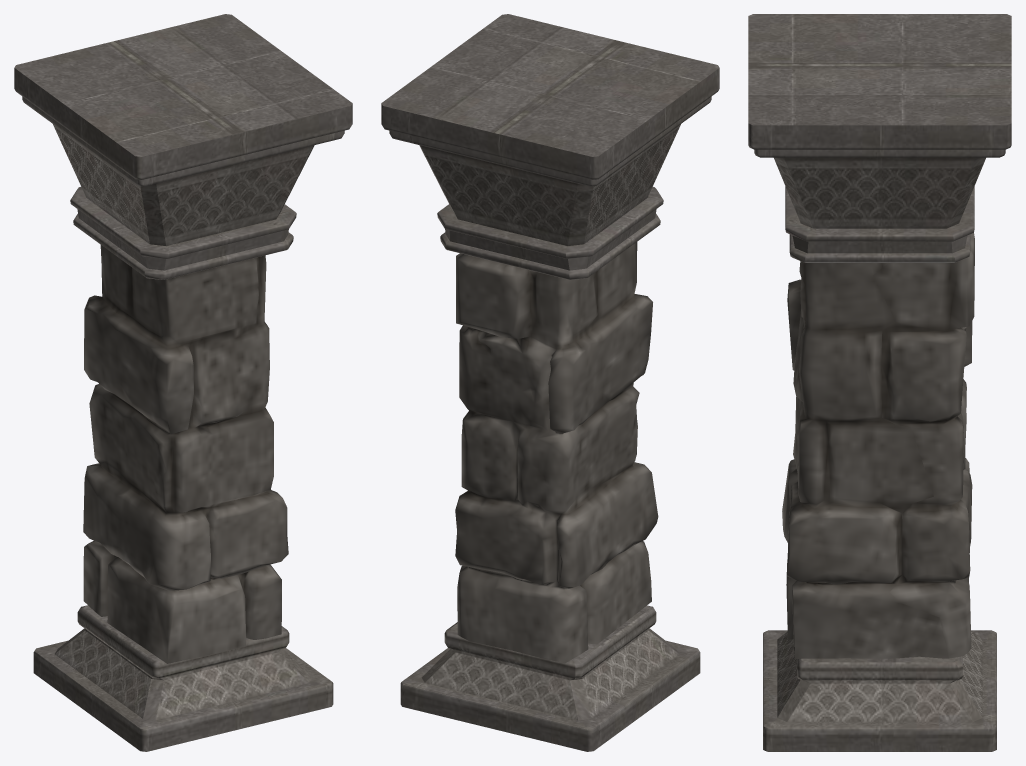
The model's file is SM_Crypt_Pillar.glb.
3 views of the same model, side by side, from view 1: azimuth 30°, elevation 25°; view 2: azimuth 150°, elevation 25°; view 3: azimuth 270°, elevation 25° (orthographic). The views are drawn at different scales.
Parts seen in each view (by area): view 1: SM_Crypt_Pillar; view 2: SM_Crypt_Pillar; view 3: SM_Crypt_Pillar.
Boxes of the visible parts, left/top/right/bottom form: SM_Crypt_Pillar: left=14, top=14, right=352, bottom=751; SM_Crypt_Pillar: left=381, top=14, right=719, bottom=751; SM_Crypt_Pillar: left=748, top=14, right=1011, bottom=751.
Bounding box in the file's own units: 1.25 × 3.31 × 1.25.
Materials: 2 (2 with a texture image).
